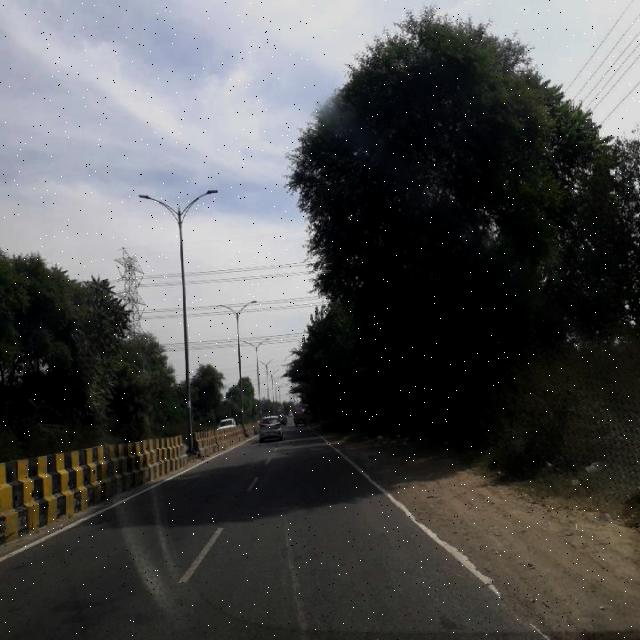D00: (279, 486, 306, 628)
